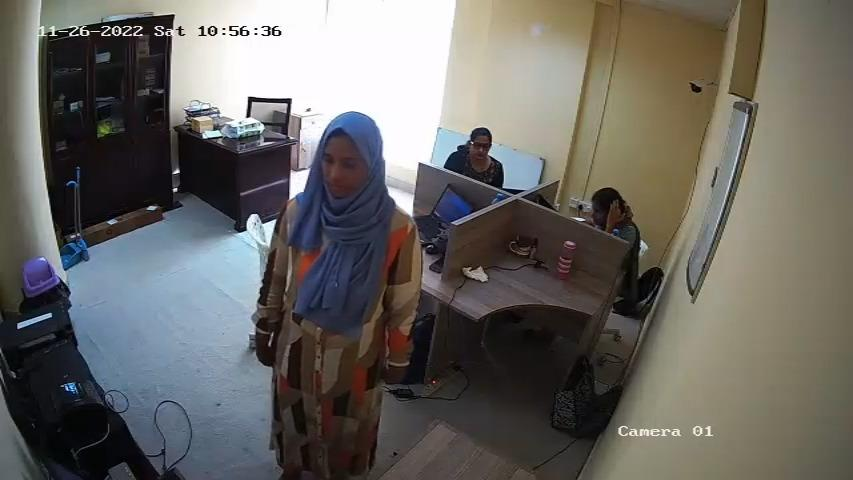no_apron: (284, 213, 382, 409)
